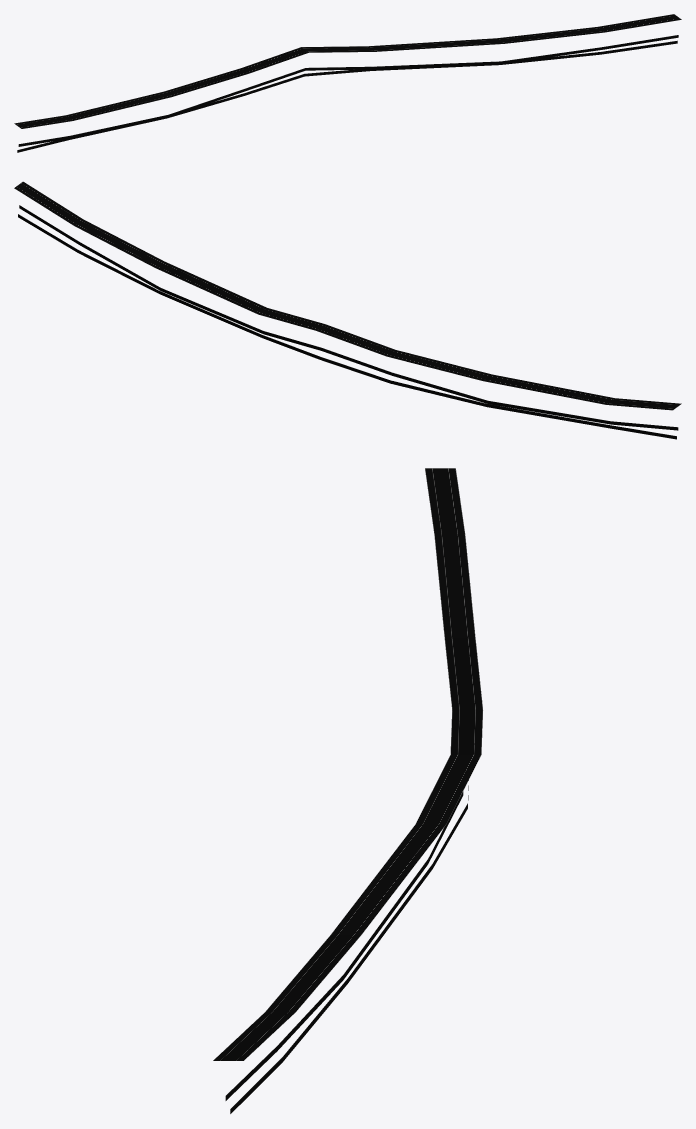
The model's file is vegastwires36.obj.
3 views of the same model, one above another, from view 1: azimuth 30°, elevation 25°; view 2: azimuth 150°, elevation 25°; view 3: azimuth 270°, elevation 25° (orthographic). The views are drawn at different scales.
Visible parts, largest first — view 1: vegastwires36; view 2: vegastwires36; view 3: vegastwires36.
Boxes of the visible parts, left/top/right/bottom form: vegastwires36: left=14, top=14, right=681, bottom=152; vegastwires36: left=14, top=181, right=681, bottom=439; vegastwires36: left=213, top=468, right=482, bottom=1113.
Size of the model in its own units: 118 by 6.29 by 22.75.
1 material, 1 textured.
